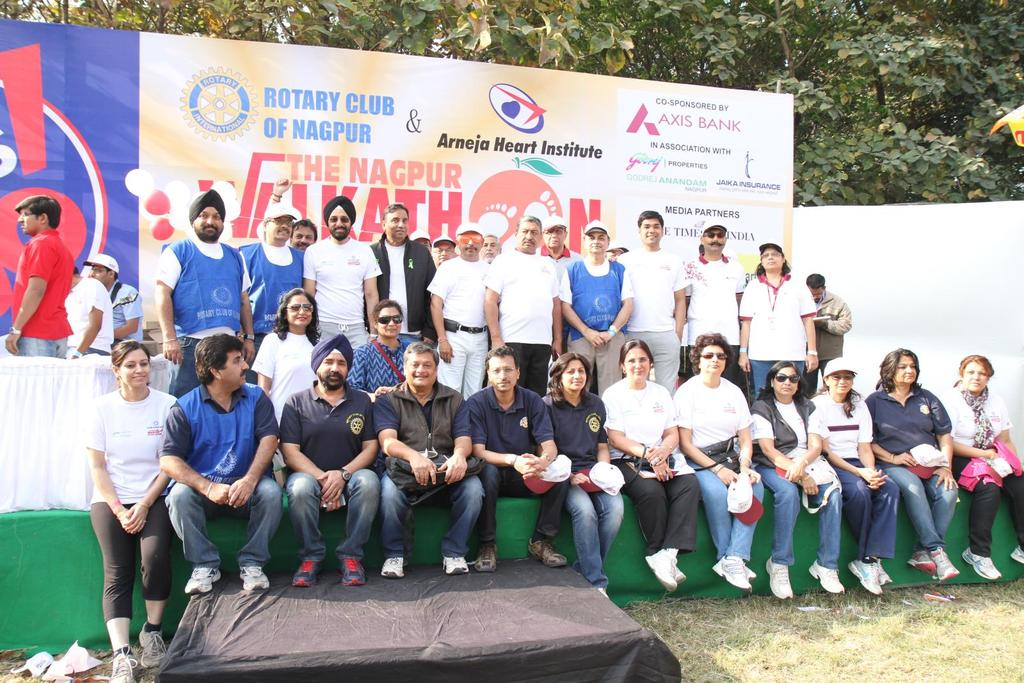Footwear: (711, 554, 751, 594), (847, 554, 883, 598), (643, 545, 675, 594), (138, 620, 168, 669), (960, 545, 1002, 579), (527, 535, 569, 566), (810, 558, 847, 593), (929, 544, 961, 583), (766, 556, 794, 600), (108, 645, 141, 682), (184, 565, 221, 593), (237, 561, 273, 589), (472, 538, 497, 574), (906, 545, 934, 577), (294, 556, 321, 586), (335, 558, 365, 585), (379, 556, 406, 581), (440, 556, 468, 576), (879, 561, 893, 584), (1011, 542, 1023, 565), (745, 564, 760, 581), (596, 585, 610, 600), (673, 568, 687, 583)
